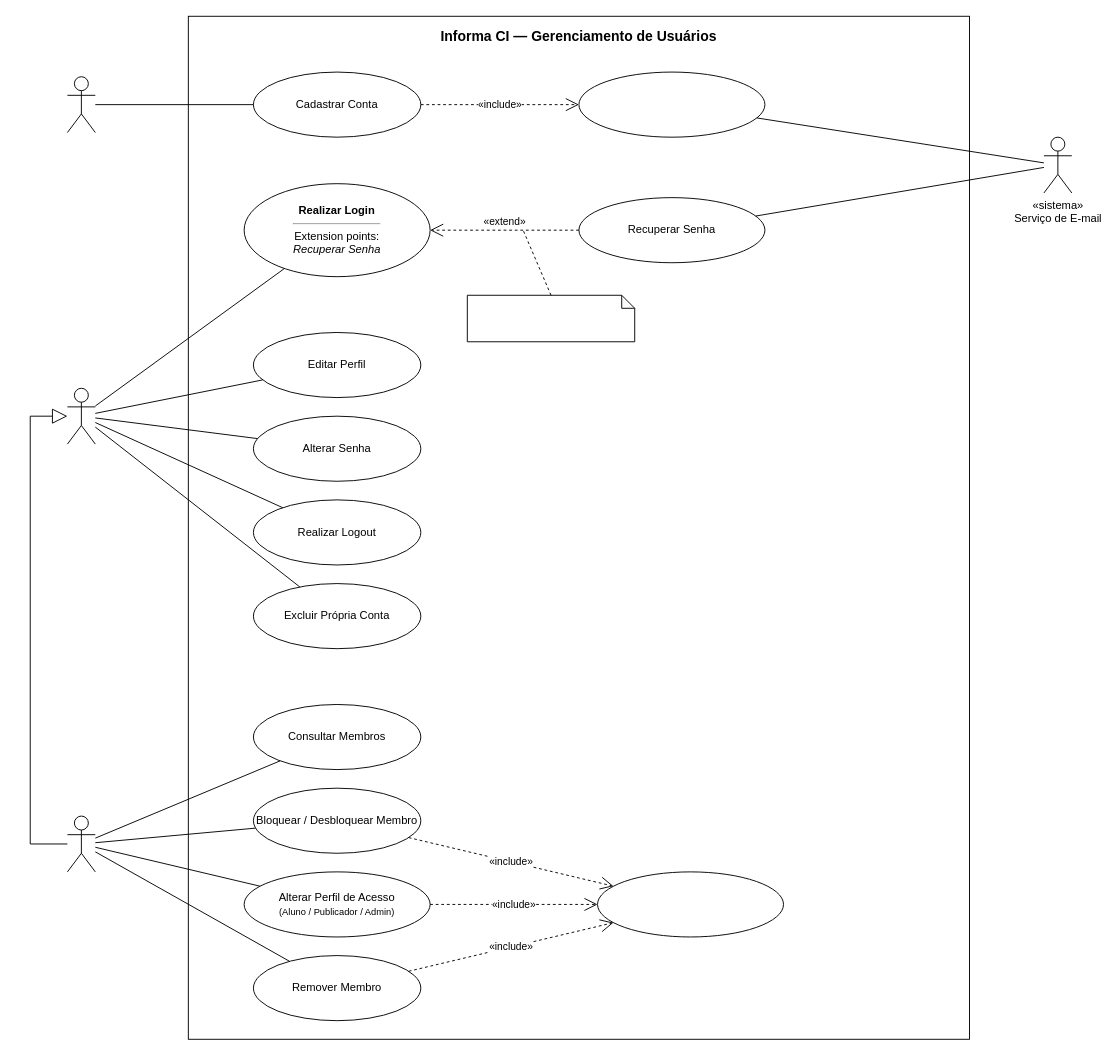
Image size: 1118x1056. Some labels were removed from this diagram. The centre of each missing label's shape, as x and y in pixels:
Administrador: the point at 80,843
Membro do CI (Aluno / Servidor): the point at 80,415
Registrar Ação no Log de Auditoria: the point at 690,904
Validar E-mail Institucional: the point at 671,104
Visitante: the point at 80,104
{Caso o membro tenha esquecido a senha}: the point at 550,318
